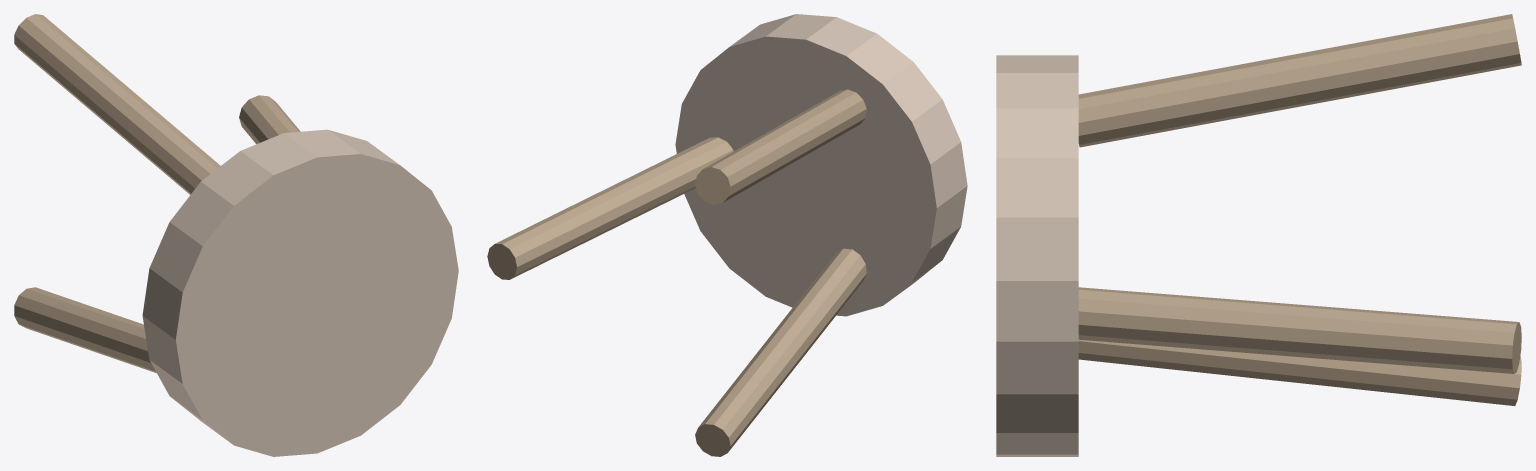
The model's file is round_stool.glb.
The picture shows the model from 3 angles, left to right: view 1: azimuth 30°, elevation 25°; view 2: azimuth 150°, elevation 25°; view 3: azimuth 270°, elevation 25°; orthographic projection. The views are drawn at different scales.
Visible parts, largest first — view 1: round_seat, leg_1, leg_2, leg_0; view 2: round_seat, leg_0, leg_2, leg_1; view 3: round_seat, leg_1, leg_0, leg_2.
Boxes of the visible parts, bbox=[...] form: round_seat: bbox=[142, 129, 458, 456]; leg_1: bbox=[14, 14, 220, 194]; leg_2: bbox=[14, 287, 156, 373]; leg_0: bbox=[239, 95, 300, 144]; round_seat: bbox=[675, 14, 967, 316]; leg_0: bbox=[487, 137, 733, 279]; leg_2: bbox=[695, 248, 866, 456]; leg_1: bbox=[695, 89, 866, 204]; round_seat: bbox=[996, 55, 1078, 456]; leg_1: bbox=[1078, 14, 1521, 147]; leg_0: bbox=[1078, 287, 1521, 373]; leg_2: bbox=[1078, 339, 1521, 405].
Bounding box in the file's own units: 0.5944 × 0.5707 × 0.7014.
